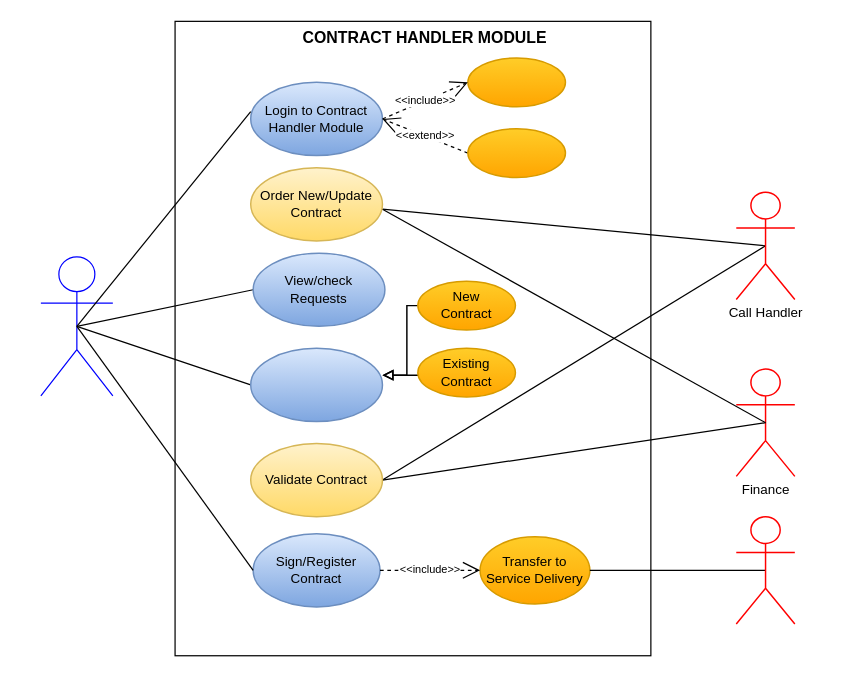
This 848x687 diagram has some shape labels left out. The shapes that lost their labels are listed below. From the top down, each one's centre as x and y in pixels, then its label:
At point (516, 82): "Verify Password".
At point (516, 152): "Access Denied".
At point (76, 326): "Contract Handler".
At point (316, 384): "Prepare Contract".
At point (765, 569): "Project Management".
